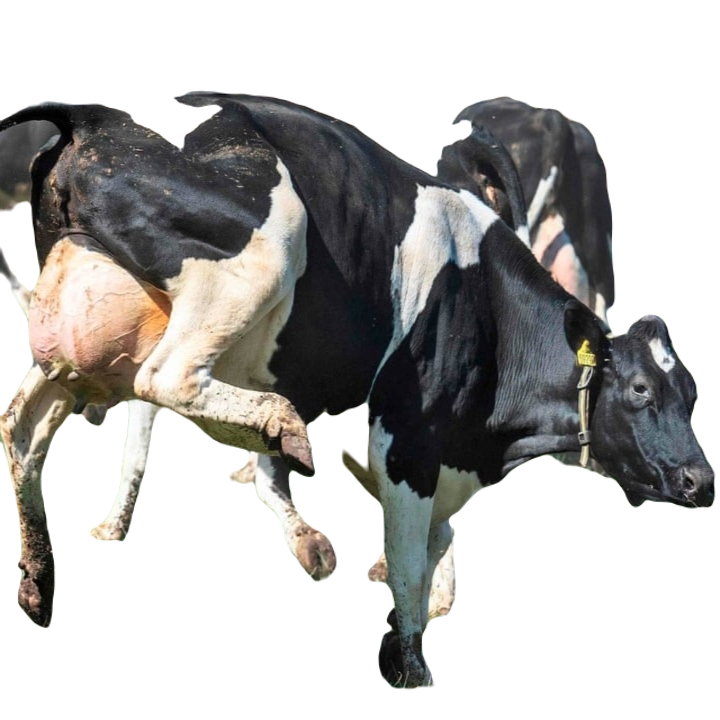Cow: (0, 91, 717, 690)
